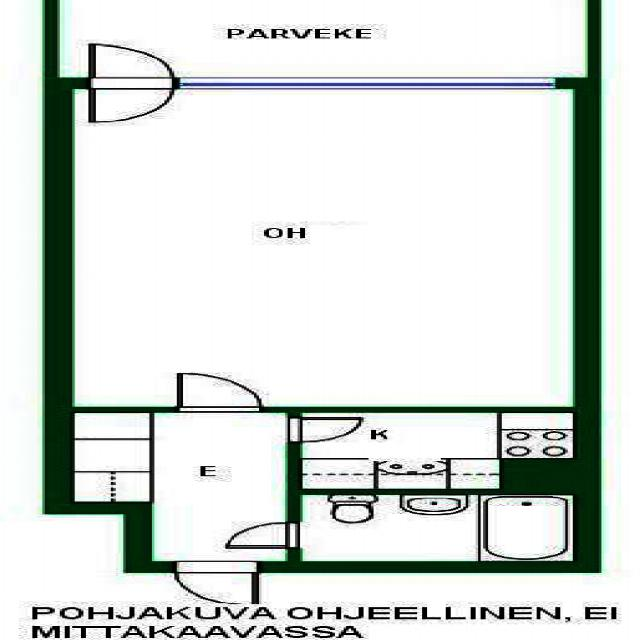door: (90, 45, 172, 89), (90, 78, 172, 122), (176, 562, 256, 606), (228, 524, 301, 548), (288, 418, 357, 442)
